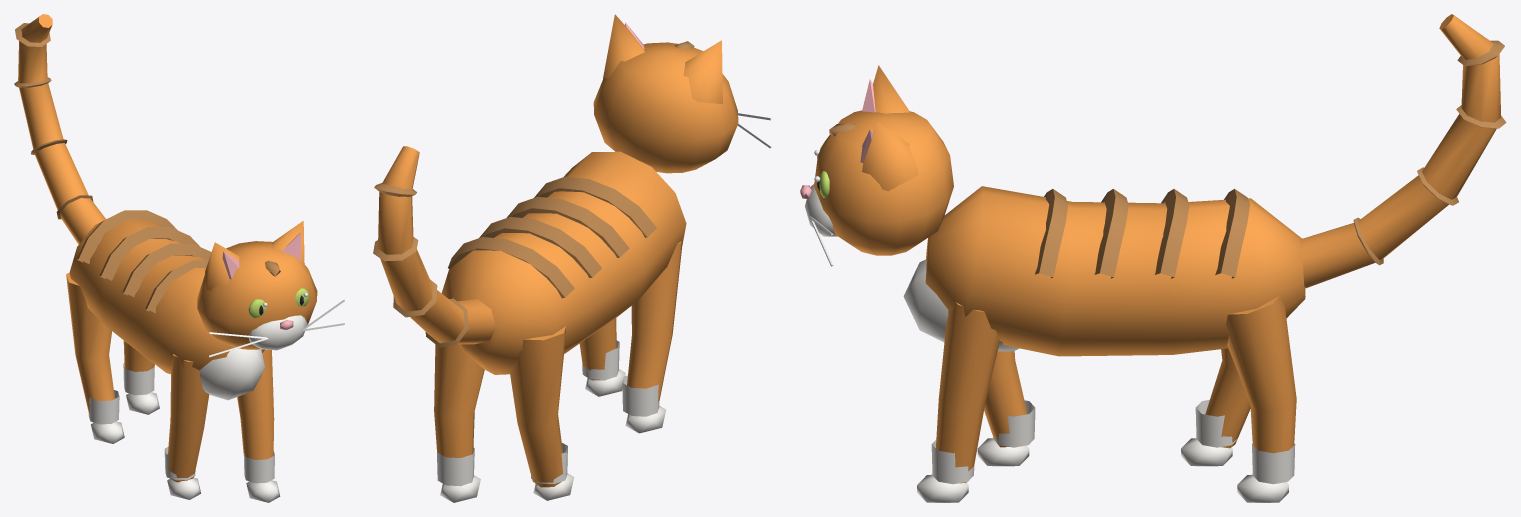
File: cat.glb
The picture shows the model from 3 angles, left to right: view 1: azimuth 30°, elevation 25°; view 2: azimuth 150°, elevation 25°; view 3: azimuth 270°, elevation 25°; orthographic projection. The views are drawn at different scales.
Visible parts, largest first — view 1: cat_body, cat_tail; view 2: cat_body, cat_tail; view 3: cat_body, cat_tail.
Boxes of the visible parts, bbox=[...] form: cat_body: bbox=[66, 210, 344, 502]; cat_tail: bbox=[14, 14, 105, 244]; cat_body: bbox=[434, 14, 771, 502]; cat_tail: bbox=[373, 146, 496, 347]; cat_body: bbox=[800, 65, 1305, 502]; cat_tail: bbox=[1300, 14, 1506, 288].
Size of the model in its own units: 0.241 by 0.5985 by 0.8157.
